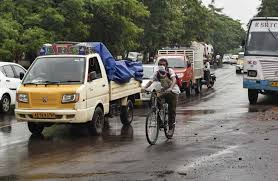mask: (156, 57, 167, 72)
